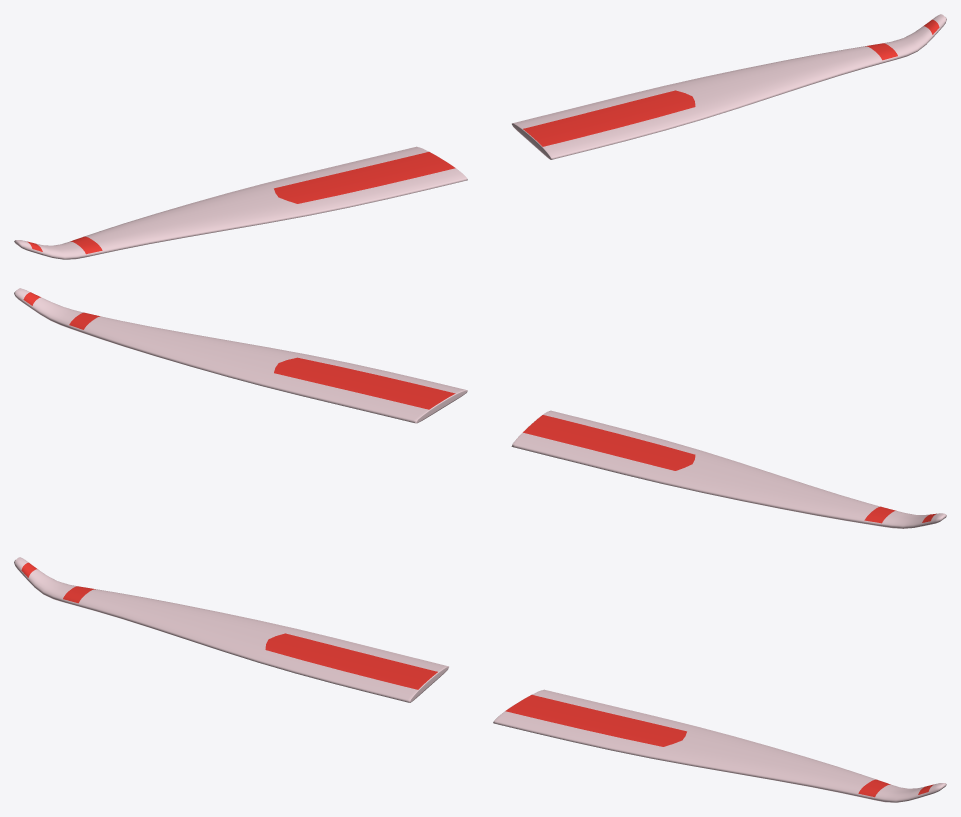
The model's file is skrzydla3.fbx.
3 views of the same model, one above another, from view 1: azimuth 30°, elevation 25°; view 2: azimuth 150°, elevation 25°; view 3: azimuth 330°, elevation 25° (orthographic).
Visible parts, largest first — view 1: Cube.001, Cube.002; view 2: Cube.001, Cube.002; view 3: Cube.002, Cube.001.
Part boxes in pixels (left/top/right/bottom): Cube.001: left=512, top=14, right=946, bottom=159; Cube.002: left=14, top=146, right=467, bottom=259; Cube.001: left=14, top=288, right=467, bottom=423; Cube.002: left=511, top=410, right=946, bottom=528; Cube.002: left=14, top=557, right=448, bottom=702; Cube.001: left=493, top=689, right=946, bottom=802.
Bounding box in the file's own units: 1063 × 24.67 × 94.09.
